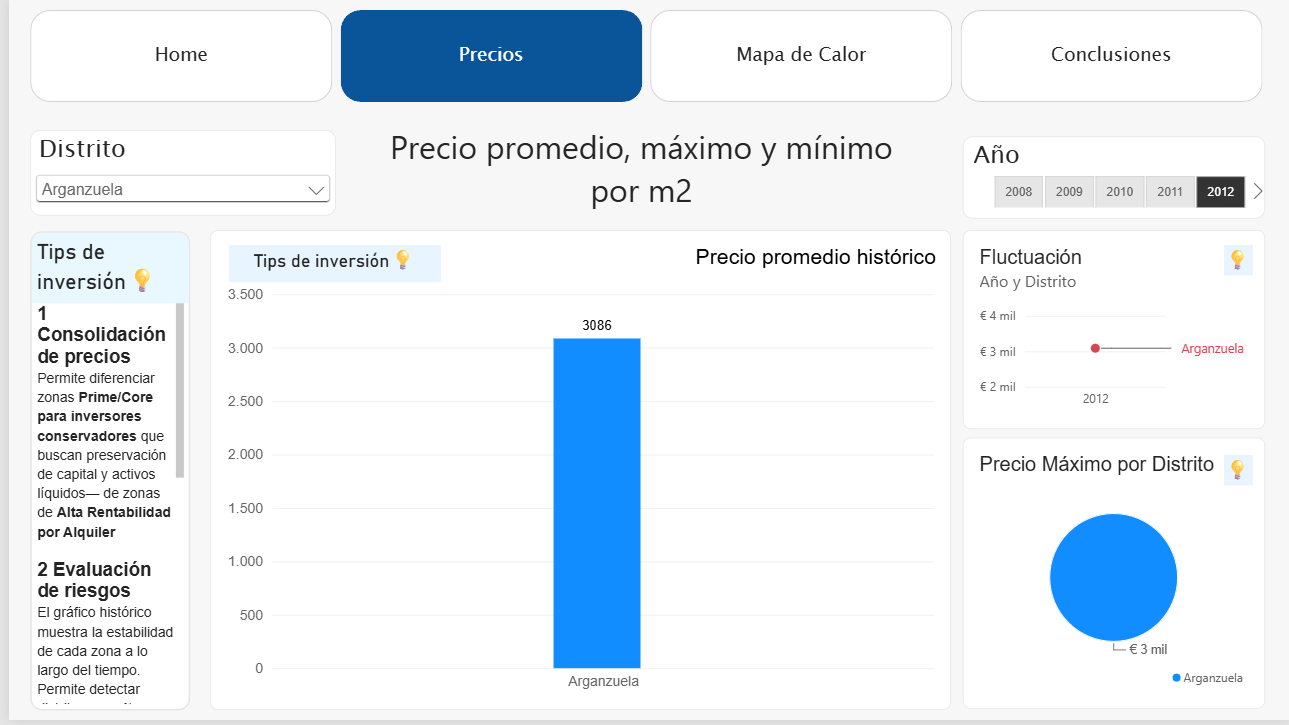

What the dashboard file says about the page in this screenshot:
{"tool":"powerbi","page":{"name":"Precios","canvas":[1280,720],"ordinal":1},"visuals":[{"type":"textbox","box":[21.1,125.6,1222.2,104.4],"z":0},{"type":"columnChart","title":"Precio promedio histórico ","fields":{"Category":["DimDistrito.Distrito"],"Series":["FactPrecios.Distrito"],"Y":["FactPrecios.Precio Promedio Anual"]},"box":[201.1,230,741.1,480],"z":1000},{"type":"lineChart","title":"Fluctuación","fields":{"Category":["DimFecha.Año"],"Series":["DimDistrito.Distrito"],"Y":["FactPrecios.Precio Promedio"]},"box":[953.3,230,302.2,198.9],"z":2000},{"type":"pieChart","title":"Precio Máximo por Distrito","fields":{"Category":["FactPrecios.Distrito"],"Y":["FactPrecios.Precio Máximo Distrito"]},"box":[953.3,437.8,302.2,271.1],"z":4000},{"type":"textbox","title":"Tips de inversión💡","box":[21.1,231.1,160,478.9],"z":6000},{"type":"actionButton","title":"Tips de inversión💡","box":[220,245,212.2,36.7],"z":7000},{"type":"textbox","box":[21.1,133.3,160,51.1],"z":8000},{"type":"actionButton","title":"💡","box":[1214.4,454.4,28.9,30],"z":9000},{"type":"actionButton","title":"💡","box":[1214.4,244.4,28.9,30],"z":10000},{"type":"slicer","fields":{"Values":["DimDistrito.Distrito"]},"box":[21.1,130,305.6,85.6],"z":10001},{"type":"pageNavigator","box":[21.1,10,1234.4,92.2],"z":10002},{"type":"slicer","title":"Año","fields":{"Values":["DimFecha.Año"]},"box":[953.3,136.7,302.2,82.2],"z":10003}]}

Visuals, with their boxes in screenshot pixels (x1, y1, x2, y2), scaled from the page's 1280x720 canvas onto the 1289x725 screenshot:
textbox: 21/126/1252/232
"Precio promedio histórico " columnChart: 203/232/949/715
"Fluctuación" lineChart: 960/232/1264/432
"Precio Máximo por Distrito" pieChart: 960/441/1264/714
"Tips de inversión💡" textbox: 21/233/182/715
"Tips de inversión💡" actionButton: 222/247/435/284
textbox: 21/134/182/186
"💡" actionButton: 1223/458/1252/488
"💡" actionButton: 1223/246/1252/276
slicer - DimDistrito.Distrito: 21/131/329/217
pageNavigator: 21/10/1264/103
"Año" slicer: 960/138/1264/220
